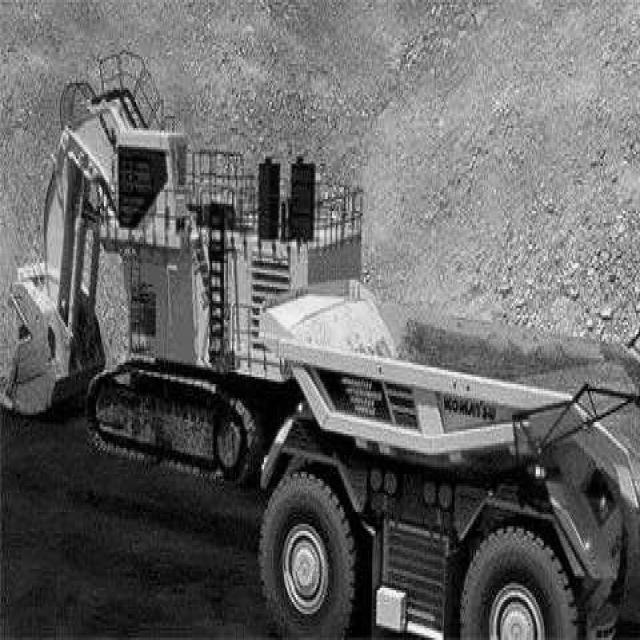Truck: (1, 67, 382, 444), (258, 277, 640, 640)
